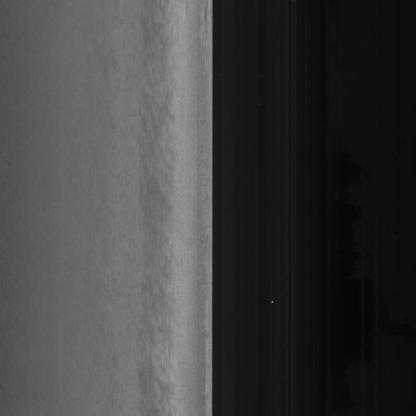silk_spot: (138, 162, 178, 282)
